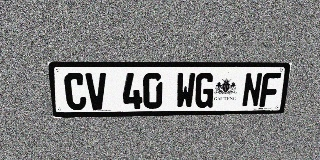0: (143, 73, 163, 109)
4: (122, 73, 142, 109)
C: (63, 73, 87, 110)
F: (259, 73, 281, 107)
G: (194, 73, 215, 108)
N: (241, 73, 263, 107)
V: (85, 73, 107, 110)
W: (175, 73, 196, 108)
